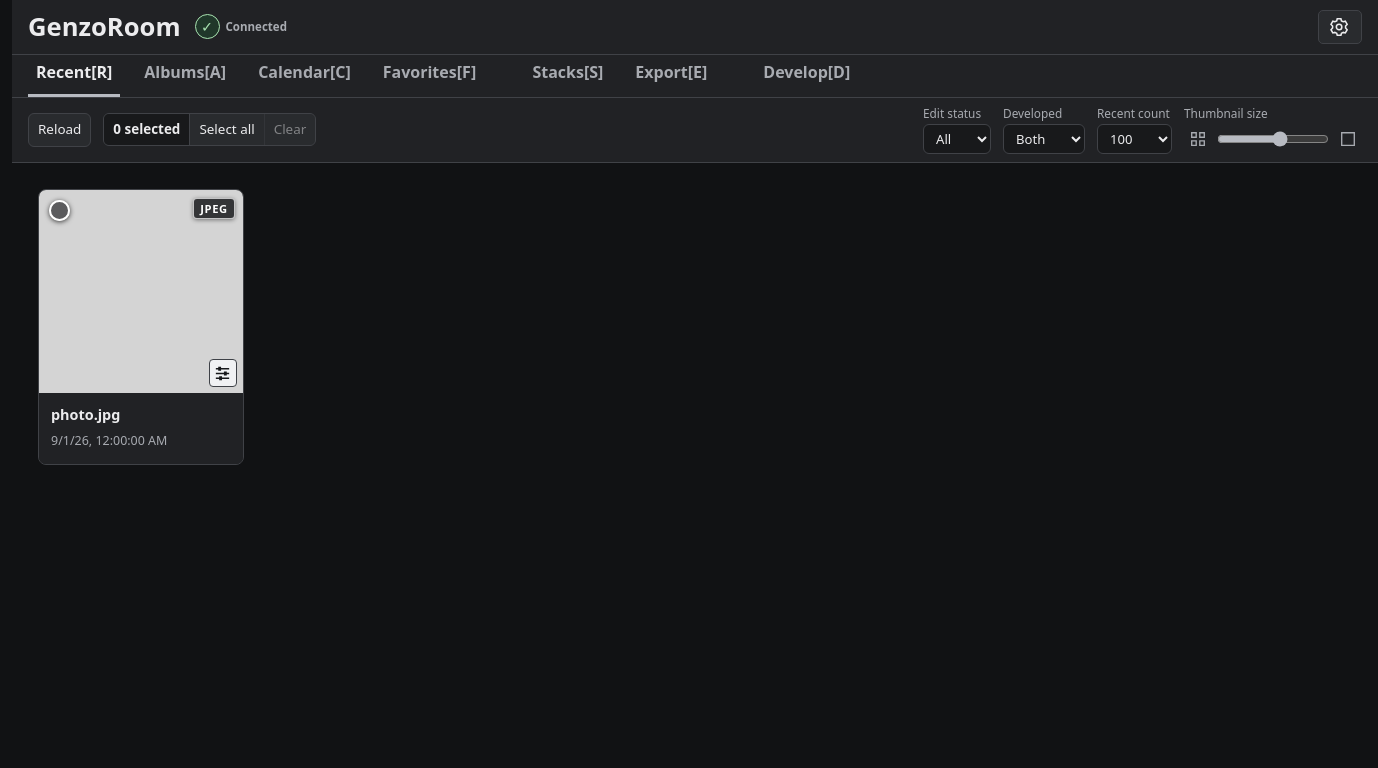
Test case: Home return context › removes a dequeued item from the Home badge after returning from Anshitsu
Expected: the button with class "edited-badge" is shown, x1=209 y1=360 x2=237 y2=388
What coordinates should you click on to do the following:
click the button with class "home-open-workspace"
I would click on:
 (807, 76)
Its box is x1=755 y1=55 x2=858 y2=97.
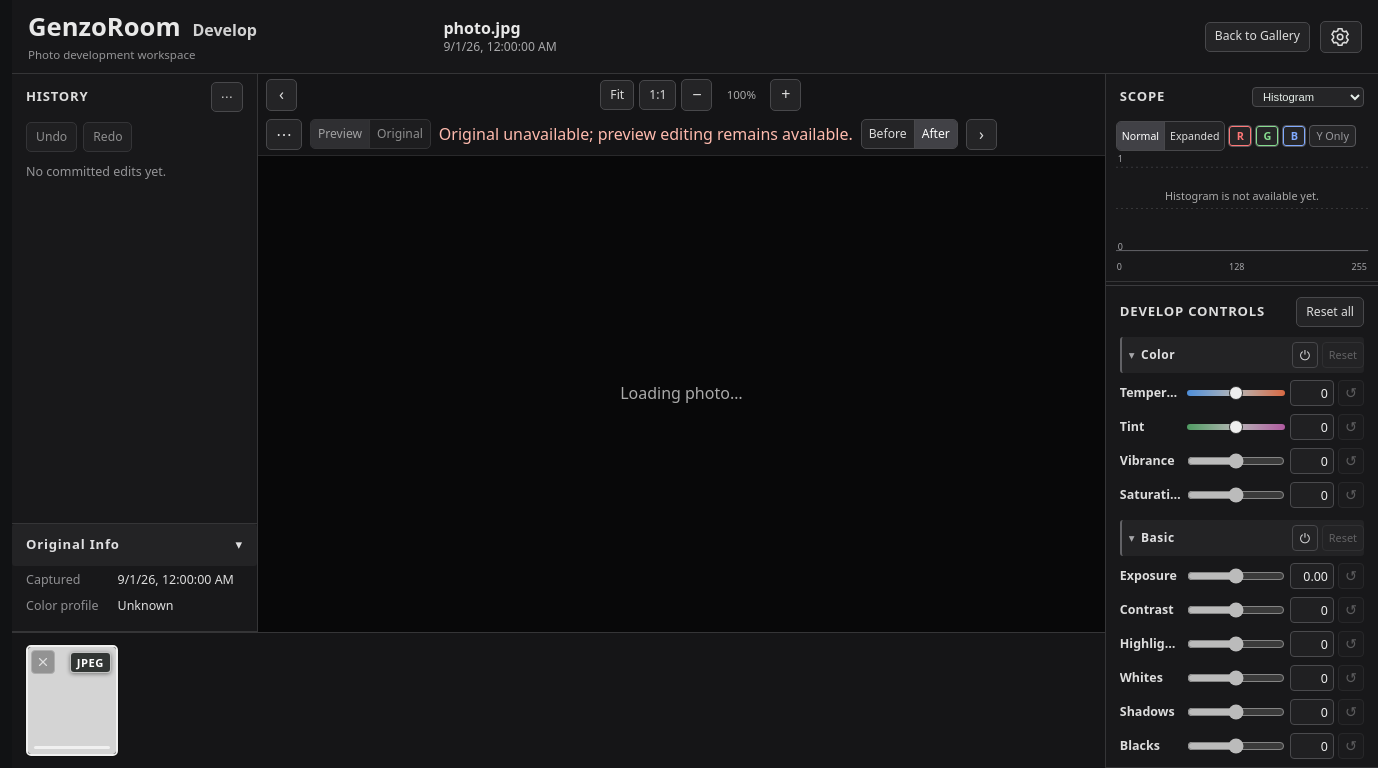
What coordinates should you click on to do the following:
click the button "Back to Gallery"
I would click on:
 (1257, 36)
Its box is x1=1205 y1=22 x2=1310 y2=52.
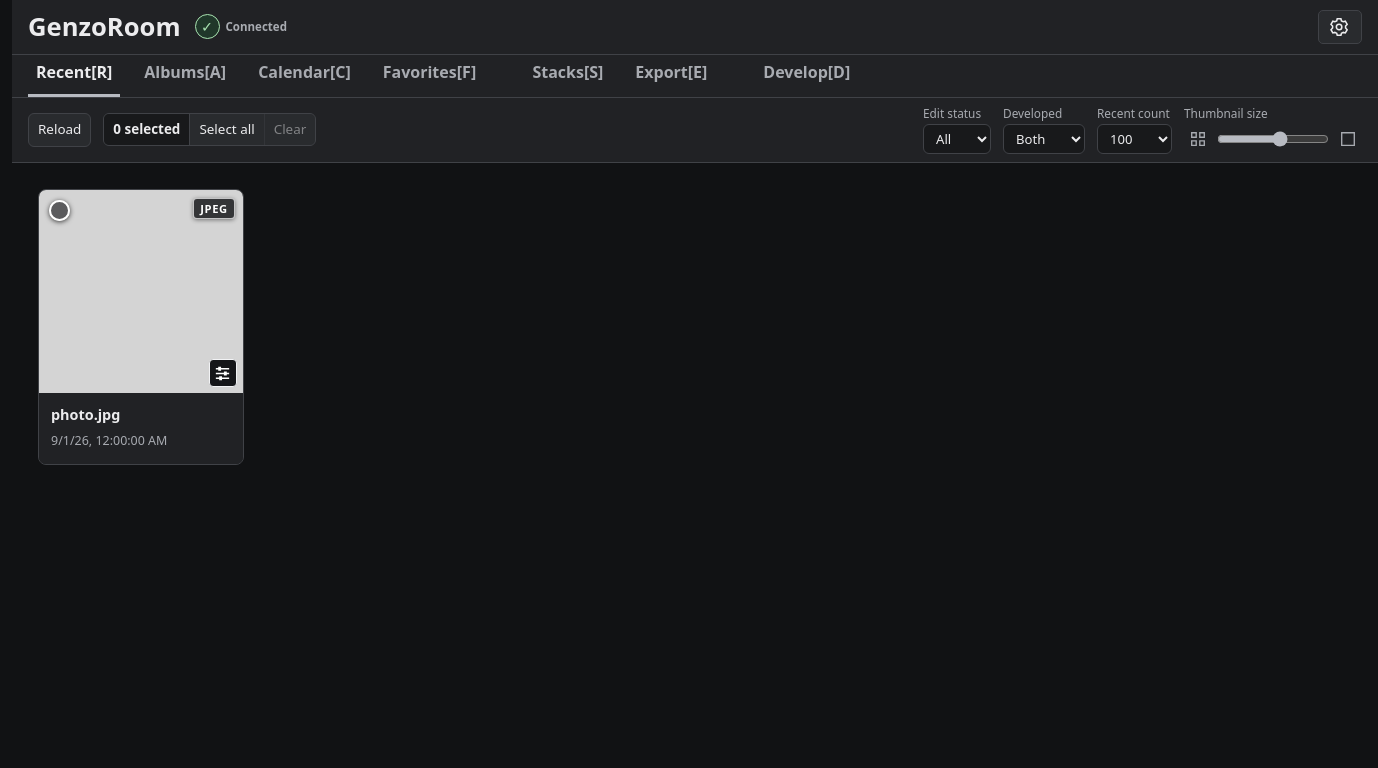
Expected: the button with class "edited-badge" is shown, x1=209 y1=360 x2=237 y2=388
